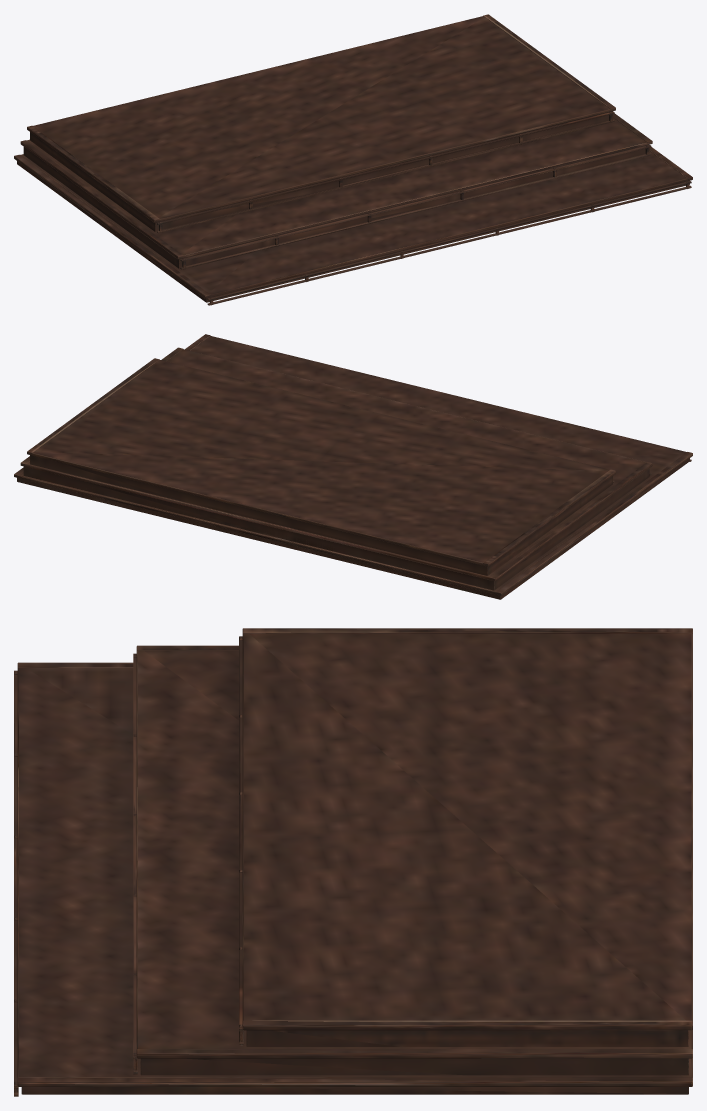
File: cleaned.glb
3 renders of one model, top to bottom at view 1: azimuth 30°, elevation 25°; view 2: azimuth 150°, elevation 25°; view 3: azimuth 270°, elevation 25°, orthographic. The views are drawn at different scales.
Parts seen in each view (by area): view 1: M7 dais-fit-m7; view 2: M7 dais-fit-m7; view 3: M7 dais-fit-m7.
Part boxes in pixels (x1,y1,x2,y2): M7 dais-fit-m7: (14, 14, 692, 305); M7 dais-fit-m7: (14, 334, 692, 599); M7 dais-fit-m7: (14, 628, 692, 1096).
Bounding box in the file's own units: 14.29 × 1 × 9.77.
Materials: 1 (1 with a texture image).
